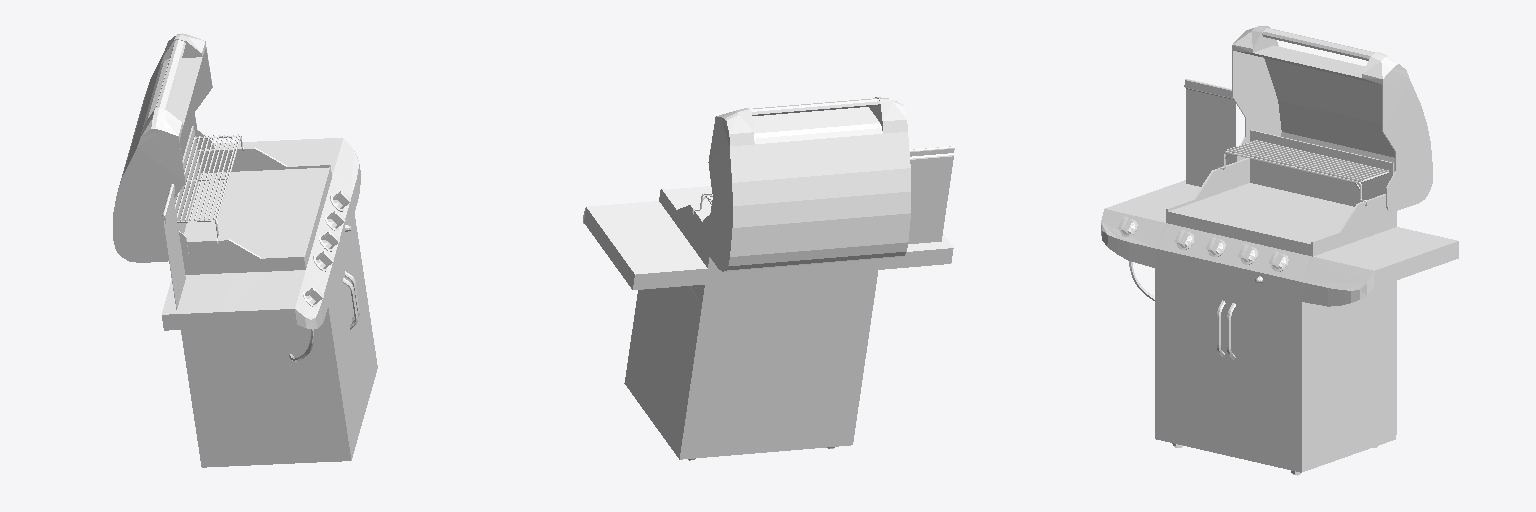
Rendered from asador.obj.
3 views of the same model, side by side, from view 1: azimuth 30°, elevation 25°; view 2: azimuth 150°, elevation 25°; view 3: azimuth 270°, elevation 25° (orthographic).
Size of the model in its own units: 121 by 153 by 131.